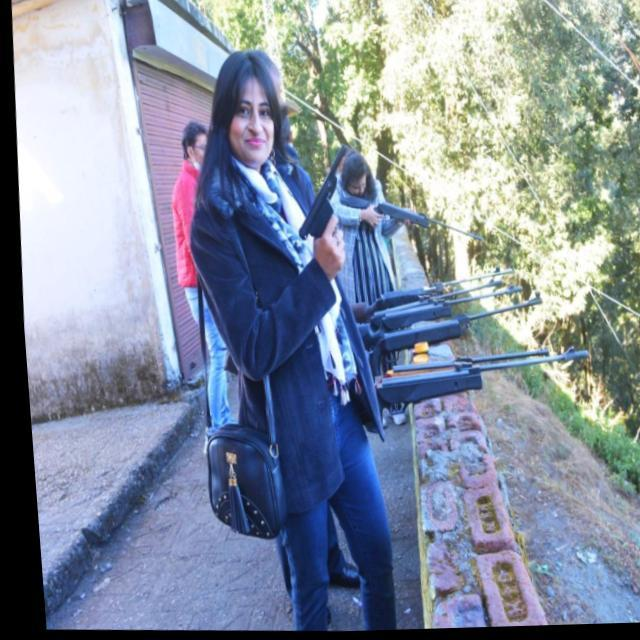weapon: (284, 136, 354, 262)
